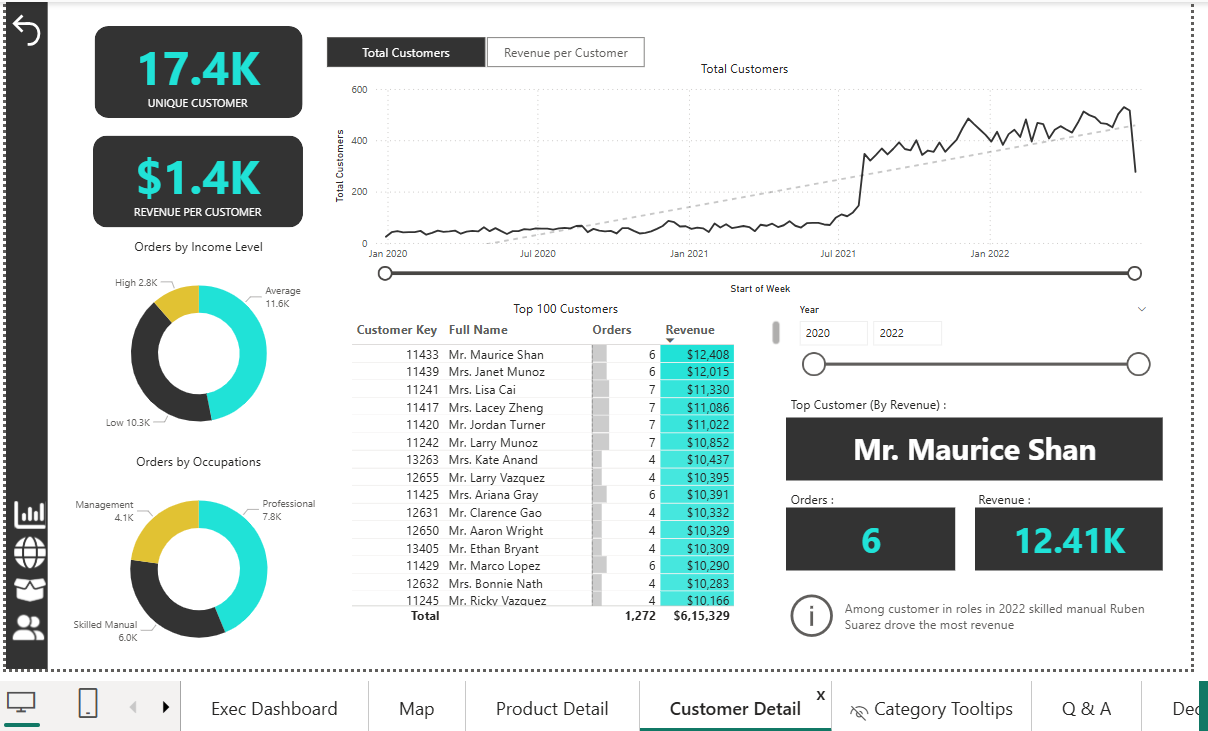

What the dashboard file says about the page in this screenshot:
{"tool":"powerbi","page":{"name":"Customer Detail","canvas":[1280,720],"ordinal":3},"visuals":[{"type":"shape","box":[0,0,45,720],"z":0},{"type":"actionButton","box":[3.5,612.8,44.2,42],"z":0,"group":"g1"},{"type":"actionButton","box":[3.5,532,44.2,42],"z":1000,"group":"g1"},{"type":"shape","box":[95.2,26.3,224.8,99.2],"z":1000},{"type":"actionButton","box":[3.5,572.4,44.2,42],"z":2000,"group":"g1"},{"type":"shape","box":[93.2,143.8,226.8,99.2],"z":2000},{"type":"card","fields":{"Values":["Measure Table.Total Customers"]},"box":[64.8,2,283.5,147.8],"z":3000},{"type":"actionButton","box":[2.5,653.2,46.2,42],"z":3000,"group":"g1"},{"type":"card","fields":{"Values":["Measure Table.Average Revenue per Customer"]},"box":[64.8,119.5,283.5,147.8],"z":4000},{"type":"lineChart","fields":{"Y":["Measure Table.Total Customers"],"Category":["Calendar Lookup.Date Hierarchy.Start of Year","Calendar Lookup.Date Hierarchy.Start of Month","Calendar Lookup.Date Hierarchy.Start of Week","Calendar Lookup.Date Hierarchy.Date"]},"box":[350.4,60.8,895.2,259.2],"z":5000},{"type":"donutChart","title":"Orders by Income Level","fields":{"Category":["Customer Lookups.Income Level"],"Y":["Measure Table.Total Orders"]},"box":[65.9,253.7,282.9,231.7],"z":6000},{"type":"donutChart","title":"Orders by Occupations","fields":{"Y":["Measure Table.Total Orders"],"Category":["Customer Lookups.Occupation"]},"box":[65.9,485.4,282.9,234.1],"z":7000},{"type":"tableEx","title":"Top 100 Customers","fields":{"Values":["Customer Lookups.CustomerKey","Customer Lookups.Full Name","Measure Table.Total Orders","Measure Table.Total Revenue"]},"box":[368.3,320.7,473.2,354.9],"z":8000},{"type":"card","fields":{"Values":["Measure Table.Full Name (Customer Detail)"]},"box":[841.8,448.4,406.4,68],"z":9000},{"type":"card","fields":{"Values":["Measure Table.Total Order(Customer Details)"]},"box":[841.8,546.1,183,68],"z":10000},{"type":"card","fields":{"Values":["Measure Table.Total Revenue(Customer Details)"]},"box":[1045.8,546.1,202.4,68],"z":11000},{"type":"textbox","box":[841.9,419,281.5,28.4],"z":12000},{"type":"textbox","box":[841.9,521.6,182.3,28.4],"z":13000},{"type":"textbox","box":[1044.4,521.6,111.4,28.4],"z":14000},{"type":"slicer","fields":{"Values":["Calendar Lookup.Year"]},"box":[843.8,320.8,400,95.8],"z":15000},{"type":"actionButton","box":[840.5,633.9,405.1,58.7],"z":16000},{"type":"actionButton","box":[0,0,44.6,60.8],"z":17000},{"type":"group","id":"g1","title":"Navigation Buttons","box":[2.5,532,46.2,163.2],"z":18000},{"type":"slicer","fields":{"Values":["Customer Metric Selection.Customer Metric Selection"]},"box":[320,30.4,392.9,46.6],"z":18501}]}

Visuals, with their boxes on the page's 1280x720 design canvas (x1, y1, x2, y2). These are canvas units, not pixel positions in the 1208x731 screenshot, which may show the page scaled, cropped or inside an application window:
shape: (x1=0, y1=0, x2=45, y2=720)
actionButton: (x1=4, y1=613, x2=48, y2=655)
actionButton: (x1=4, y1=532, x2=48, y2=574)
shape: (x1=95, y1=26, x2=320, y2=126)
actionButton: (x1=4, y1=572, x2=48, y2=614)
shape: (x1=93, y1=144, x2=320, y2=243)
card - Measure Table.Total Customers: (x1=65, y1=2, x2=348, y2=150)
actionButton: (x1=2, y1=653, x2=49, y2=695)
card - Measure Table.Average Revenue per Customer: (x1=65, y1=120, x2=348, y2=267)
lineChart - Measure Table.Total Customers x Calendar Lookup.Date Hierarchy.Start of Year: (x1=350, y1=61, x2=1246, y2=320)
"Orders by Income Level" donutChart: (x1=66, y1=254, x2=349, y2=485)
"Orders by Occupations" donutChart: (x1=66, y1=485, x2=349, y2=720)
"Top 100 Customers" tableEx: (x1=368, y1=321, x2=842, y2=676)
card - Measure Table.Full Name (Customer Detail): (x1=842, y1=448, x2=1248, y2=516)
card - Measure Table.Total Order(Customer Details): (x1=842, y1=546, x2=1025, y2=614)
card - Measure Table.Total Revenue(Customer Details): (x1=1046, y1=546, x2=1248, y2=614)
textbox: (x1=842, y1=419, x2=1123, y2=447)
textbox: (x1=842, y1=522, x2=1024, y2=550)
textbox: (x1=1044, y1=522, x2=1156, y2=550)
slicer - Calendar Lookup.Year: (x1=844, y1=321, x2=1244, y2=417)
actionButton: (x1=840, y1=634, x2=1246, y2=693)
actionButton: (x1=0, y1=0, x2=45, y2=61)
"Navigation Buttons" group: (x1=2, y1=532, x2=49, y2=695)
slicer - Customer Metric Selection.Customer Metric Selection: (x1=320, y1=30, x2=713, y2=77)
